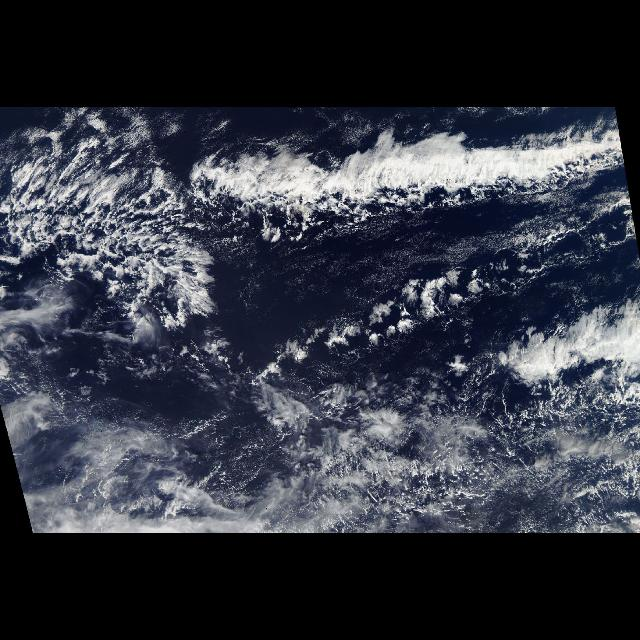Fish: (190, 138, 618, 224)
Flower: (327, 273, 499, 349)
Sugar: (396, 449, 612, 525)
